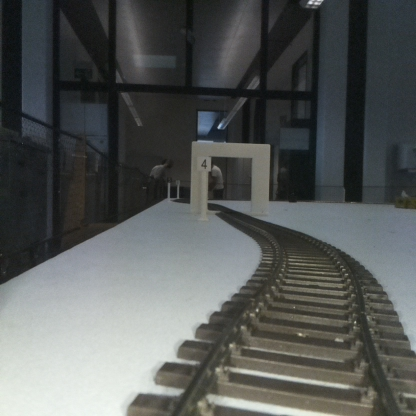white-info-4: (197, 156, 210, 221)
